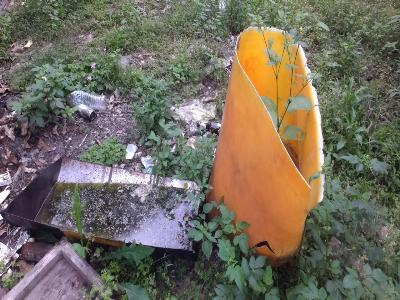bucket: (202, 24, 323, 270)
